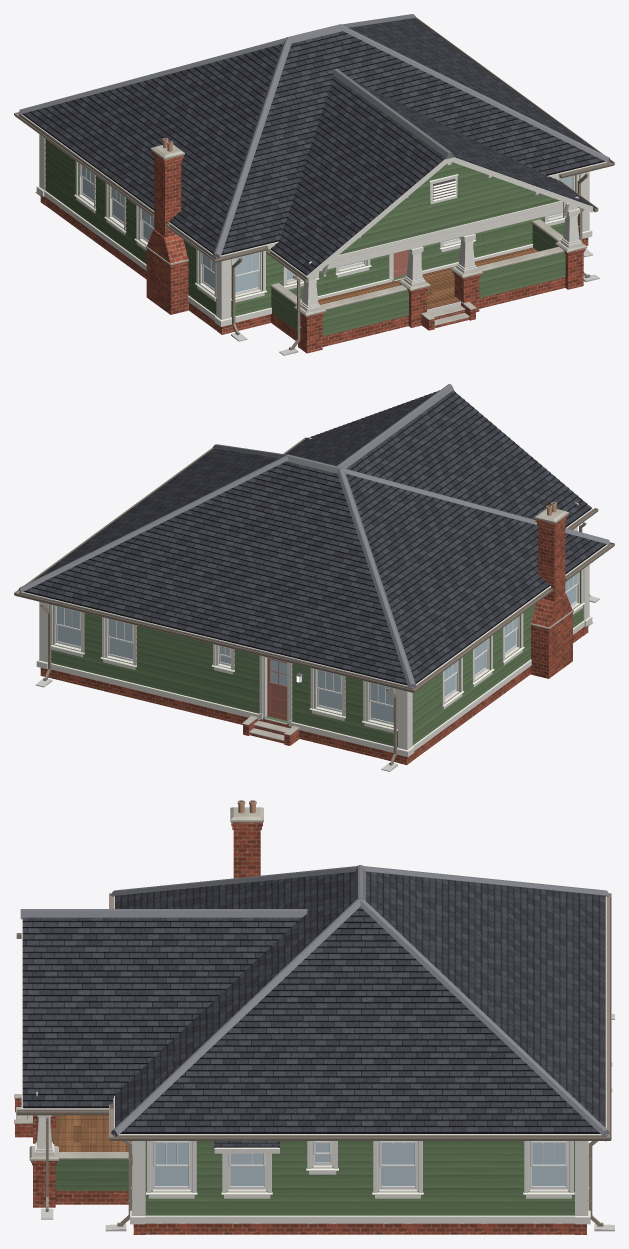
Rendered from building_assembled.glb.
The picture shows the model from 3 angles, top to bottom: view 1: azimuth 30°, elevation 25°; view 2: azimuth 150°, elevation 25°; view 3: azimuth 270°, elevation 25°; orthographic projection. The views are drawn at different scales.
Visible parts, largest first — view 1: building_shingles, building_siding, building_trim, building_brick, building_ridge, building_gutter, building_cap, building_glass, building_deck, building_sash, building_frame; view 2: building_shingles, building_siding, building_trim, building_brick, building_ridge, building_glass, building_gutter, building_sash, building_frame, building_cap, building_door; view 3: building_shingles, building_siding, building_trim, building_ridge, building_brick, building_gutter, building_glass, building_sash, building_deck, building_cap, building_frame.
Part boxes in pixels (x1,y1,x2,y2): building_shingles: (22,18,604,275); building_siding: (45,139,579,336); building_trim: (21,114,609,326); building_brick: (40,151,588,353); building_ridge: (18,14,610,258); building_gutter: (14,17,614,350); building_cap: (145,144,587,325); building_glass: (81,165,571,292); building_deck: (318,247,538,309); building_sash: (80,164,573,294); building_frame: (79,163,575,290); building_shingles: (23,390,606,685); building_siding: (49,571,583,747); building_trim: (19,437,607,757); building_brick: (40,515,588,764); building_ridge: (18,384,610,688); building_glass: (57,573,577,722); building_gutter: (14,437,614,765); building_sash: (55,572,578,724); building_frame: (53,571,579,723); building_cap: (242,508,573,740); building_door: (267,658,287,720); building_shingles: (22,871,605,1147); building_siding: (55,1141,574,1215); building_trim: (21,896,606,1224); building_ridge: (20,865,609,1136); building_brick: (15,822,586,1234); building_gutter: (16,893,611,1226); building_glass: (154,1143,565,1186); building_sash: (153,1141,567,1189); building_deck: (51,1115,131,1151); building_cap: (14,807,612,1160); building_frame: (151,1141,569,1191).
Bounding box in the file's own units: 15.47 × 7.06 × 15.93.
Materials: 23 (7 with a texture image).
